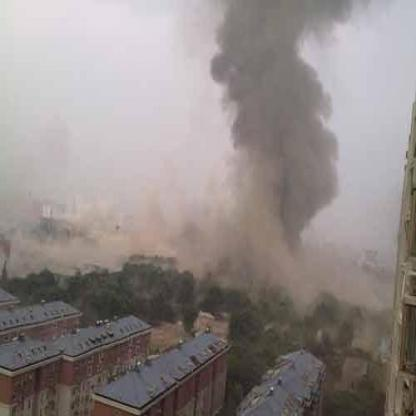smoke: (235, 84, 324, 199), (228, 8, 300, 82), (257, 198, 313, 249)
